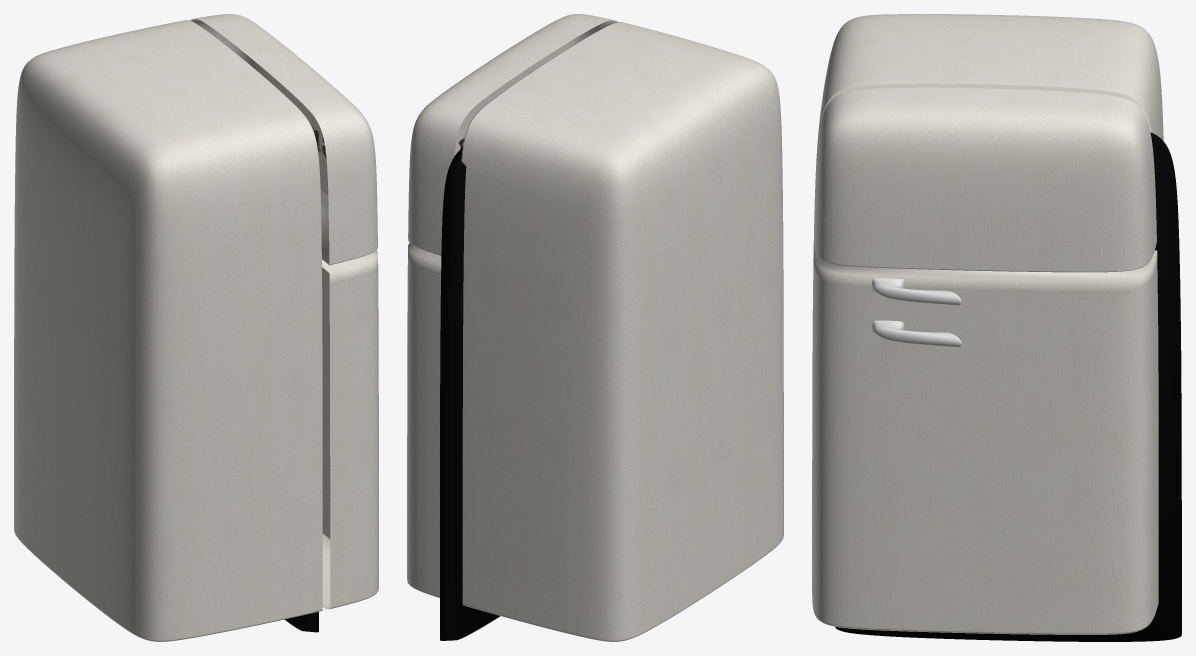
File: cora2.gltf
The picture shows the model from 3 angles, left to right: view 1: azimuth 30°, elevation 25°; view 2: azimuth 150°, elevation 25°; view 3: azimuth 270°, elevation 25°; orthographic projection. The views are drawn at different scales.
Visible parts, largest first — view 1: Cube_Body_0; view 2: Cube_Body_0, Cube_Trim_0; view 3: Cube_Body_0, Cube_Trim_0, Cube_Handles_0.
Part boxes in pixels (box(x1,y1,x2,y2)): Cube_Body_0: box(14, 14, 378, 641); Cube_Body_0: box(407, 14, 783, 641); Cube_Trim_0: box(440, 147, 500, 640); Cube_Body_0: box(812, 14, 1163, 634); Cube_Trim_0: box(835, 132, 1181, 641); Cube_Handles_0: box(872, 278, 961, 347).
Size of the model in its own units: 51.43 by 94.58 by 57.23.
Materials: 4 (1 with a texture image).
